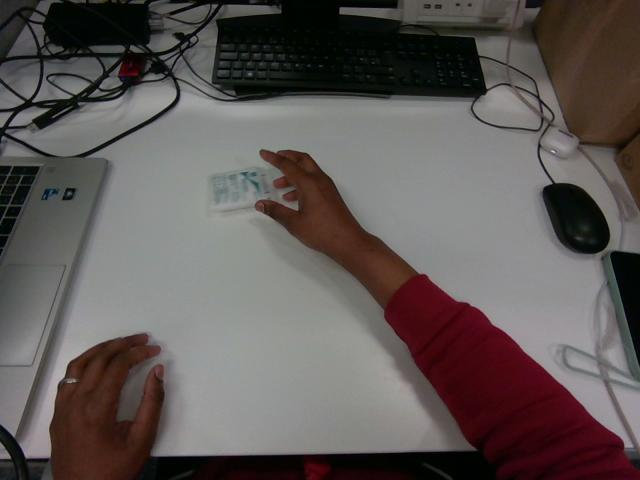gauze: (208, 167, 273, 214)
